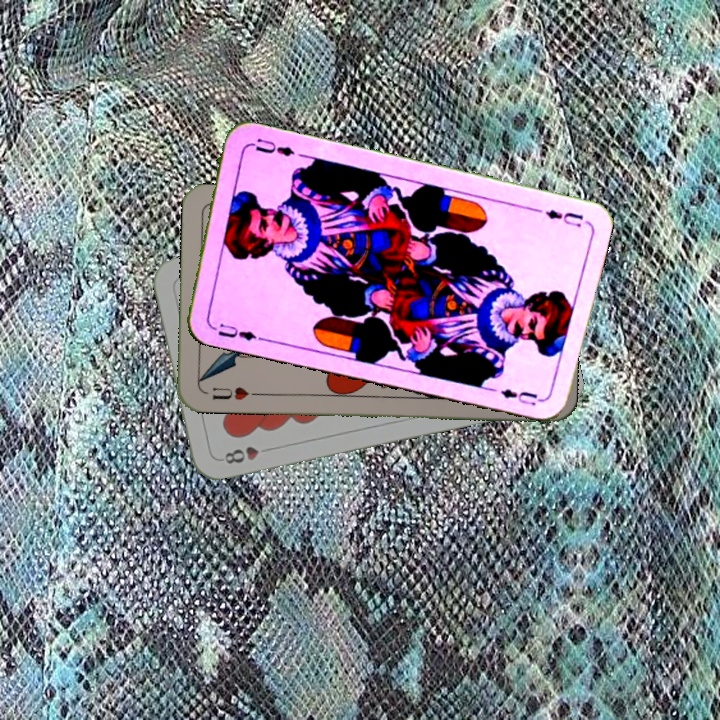EU: (214, 319, 262, 344), (541, 205, 586, 230)
H8: (220, 442, 275, 467)
HU: (208, 383, 261, 403)
